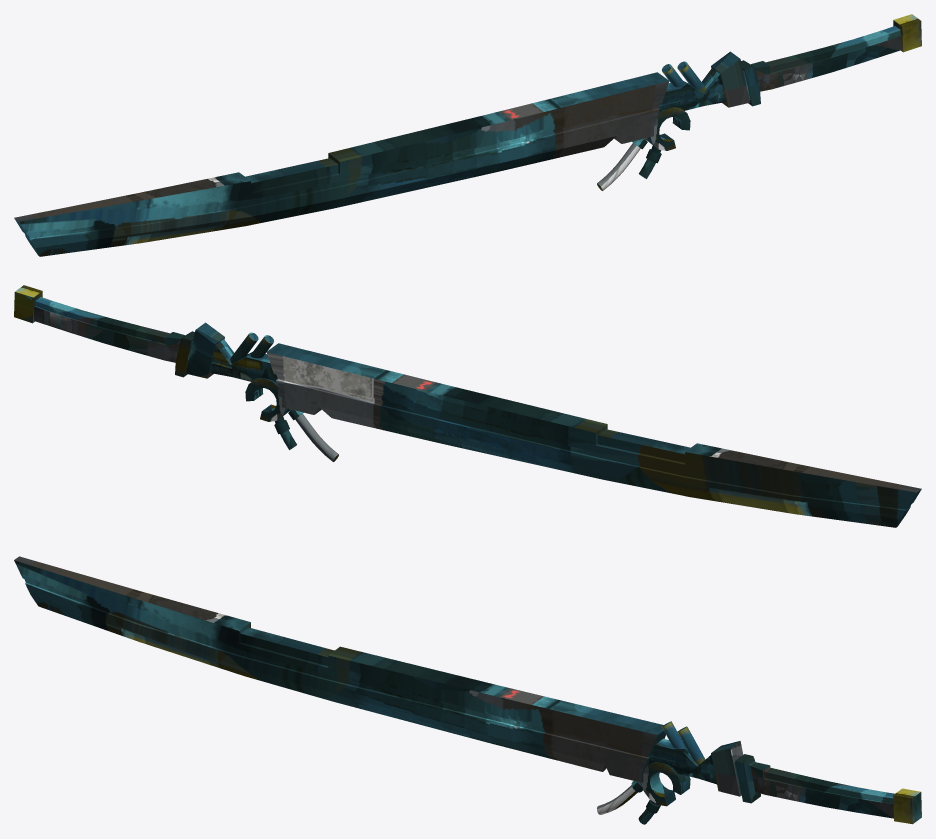
File: katana_1.fbx
3 views of the same model, one above another, from view 1: azimuth 30°, elevation 25°; view 2: azimuth 150°, elevation 25°; view 3: azimuth 330°, elevation 25° (orthographic).
Visible parts, largest first — view 1: pCylinder3; view 2: pCylinder3; view 3: pCylinder3.
Part boxes in pixels (<box>): pCylinder3: <box>14,14,921,256</box>; pCylinder3: <box>14,285,921,527</box>; pCylinder3: <box>14,556,921,824</box>.
Bounding box in the file's own units: 120 × 14.46 × 2.76.
